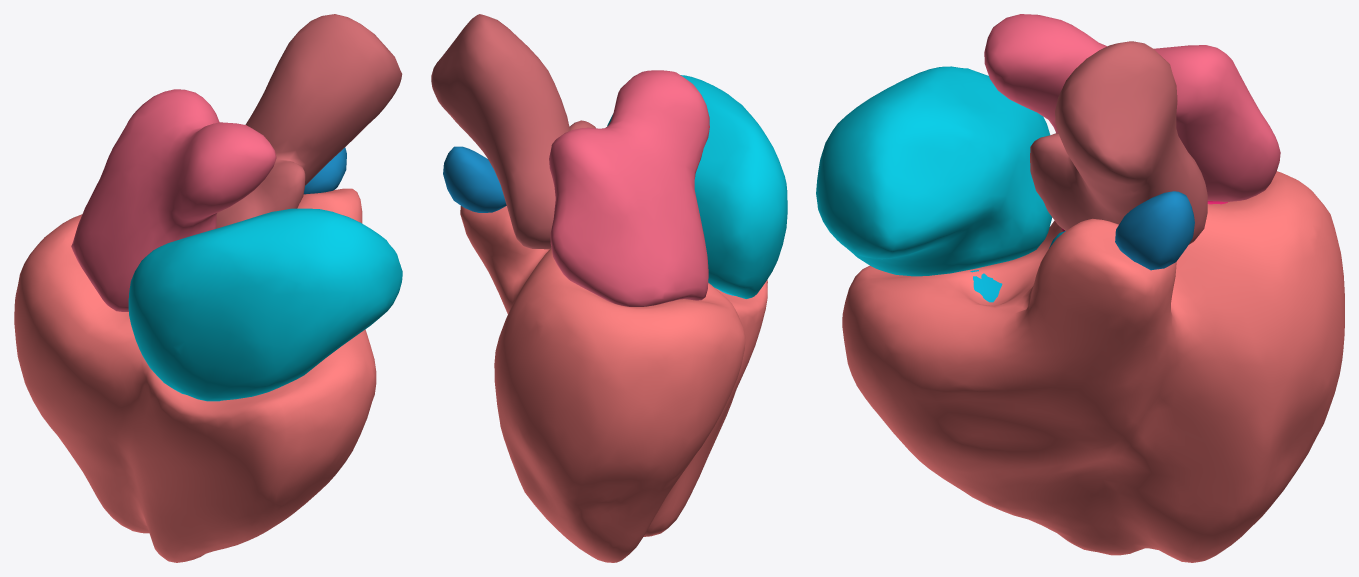
Rendered from frame_5.glb.
3 renders of one model, left to right at view 1: azimuth 30°, elevation 25°; view 2: azimuth 150°, elevation 25°; view 3: azimuth 270°, elevation 25°, orthographic. The views are drawn at different scales.
Parts seen in each view (by area): view 1: Renderer Node; view 2: Renderer Node; view 3: Renderer Node.
Boxes of the visible parts, left/top/right/bottom form: Renderer Node: left=14, top=14, right=402, bottom=562; Renderer Node: left=431, top=14, right=787, bottom=562; Renderer Node: left=816, top=14, right=1344, bottom=562.
Size of the model in its own units: 108 by 154 by 121.
